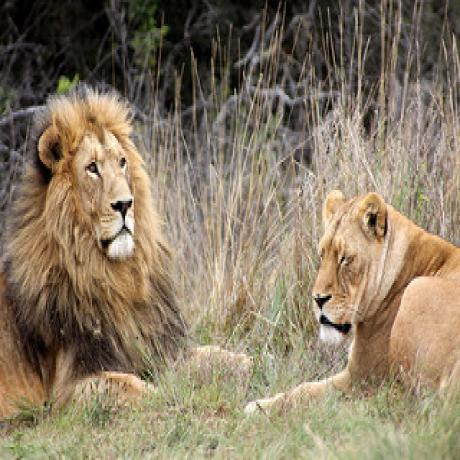Lion: (0, 74, 184, 446), (266, 183, 460, 419)
